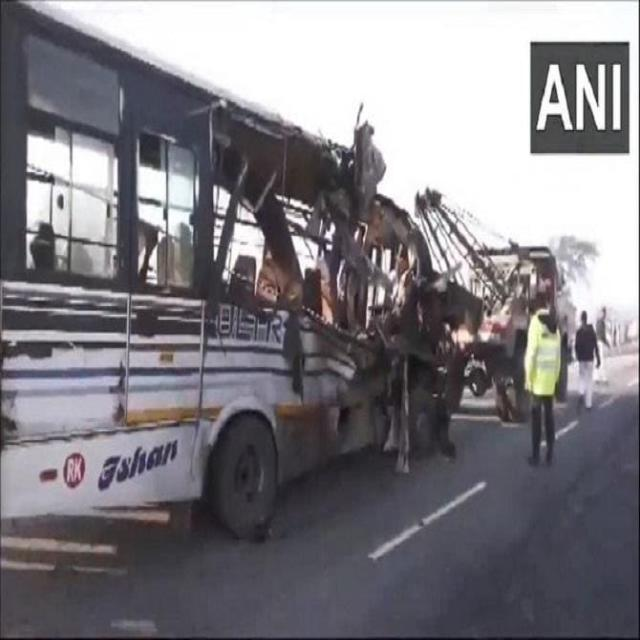accident: (0, 3, 480, 540)
